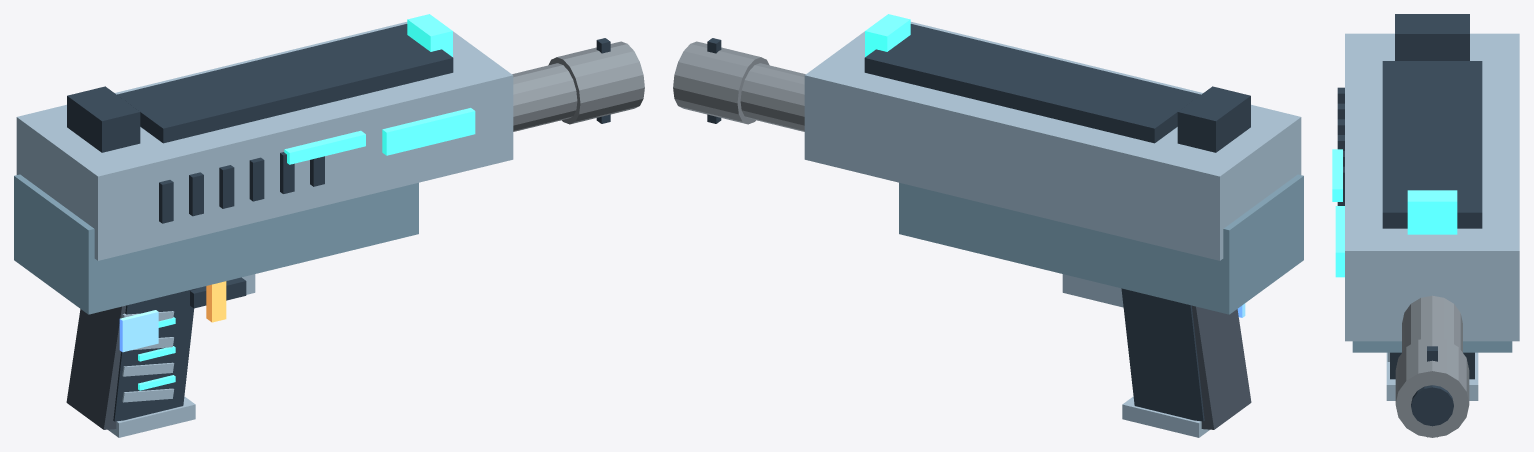
File: pistol.glb
3 renders of one model, left to right at view 1: azimuth 30°, elevation 25°; view 2: azimuth 150°, elevation 25°; view 3: azimuth 270°, elevation 25°, orthographic. The views are drawn at different scales.
Visible parts, largest first — view 1: Pistol_Slide, Pistol_Frame, Slide_Top_Rail, Pistol_Grip, MAGAZINE, Pistol_Muzzle, Rear_Sight, Pistol_Barrel, Forward_Energy_Vent, MAGAZINE_baseplate, Grip_Badge, Ion_Core_Window (+7 smaller); view 2: Pistol_Slide, Pistol_Frame, Slide_Top_Rail, MAGAZINE, Pistol_Grip, Pistol_Muzzle, Rear_Sight, Pistol_Barrel, MAGAZINE_baseplate, Front_Sight, Trigger_Guard; view 3: Pistol_Slide, Slide_Top_Rail, Pistol_Muzzle, Rear_Sight, Pistol_Barrel, Front_Sight, Pistol_Muzzle_bore, Pistol_Frame, Forward_Energy_Vent, MAGAZINE_baseplate, Ion_Core_Window, MAGAZINE.
Boxes of the visible parts, x1=… form: Pistol_Slide: x1=16, y1=22, x2=513, y2=260; Pistol_Frame: x1=14, y1=174, x2=418, y2=314; Slide_Top_Rail: x1=117, y1=24, x2=453, y2=143; Pistol_Grip: x1=66, y1=305, x2=125, y2=429; MAGAZINE: x1=113, y1=288, x2=196, y2=421; Pistol_Muzzle: x1=548, y1=41, x2=644, y2=124; Rear_Sight: x1=67, y1=86, x2=140, y2=152; Pistol_Barrel: x1=512, y1=63, x2=577, y2=131; Forward_Energy_Vent: x1=382, y1=108, x2=475, y2=155; MAGAZINE_baseplate: x1=108, y1=396, x2=195, y2=437; Grip_Badge: x1=119, y1=310, x2=158, y2=352; Ion_Core_Window: x1=284, y1=130, x2=365, y2=164; Pistol_Slide: x1=804, y1=22, x2=1301, y2=260; Pistol_Frame: x1=899, y1=174, x2=1303, y2=314; Slide_Top_Rail: x1=864, y1=24, x2=1200, y2=143; MAGAZINE: x1=1121, y1=288, x2=1204, y2=421; Pistol_Grip: x1=1192, y1=305, x2=1251, y2=429; Pistol_Muzzle: x1=673, y1=41, x2=769, y2=124; Rear_Sight: x1=1177, y1=86, x2=1250, y2=152; Pistol_Barrel: x1=740, y1=63, x2=805, y2=131; MAGAZINE_baseplate: x1=1122, y1=396, x2=1209, y2=437; Front_Sight: x1=865, y1=14, x2=910, y2=56; Trigger_Guard: x1=1062, y1=274, x2=1123, y2=307; Pistol_Slide: x1=1345, y1=33, x2=1519, y2=341; Slide_Top_Rail: x1=1382, y1=61, x2=1482, y2=228; Pistol_Muzzle: x1=1395, y1=337, x2=1469, y2=437; Rear_Sight: x1=1395, y1=14, x2=1469, y2=60; Pistol_Barrel: x1=1402, y1=295, x2=1462, y2=352; Front_Sight: x1=1407, y1=190, x2=1457, y2=234; Pistol_Muzzle_bore: x1=1411, y1=385, x2=1453, y2=426; Pistol_Frame: x1=1352, y1=341, x2=1512, y2=352; Forward_Energy_Vent: x1=1335, y1=206, x2=1344, y2=277; MAGAZINE_baseplate: x1=1386, y1=352, x2=1478, y2=400; Ion_Core_Window: x1=1332, y1=149, x2=1342, y2=201; MAGAZINE: x1=1390, y1=352, x2=1474, y2=379.
Bounding box in the file's own units: 1.44 × 0.7556 × 0.376.
